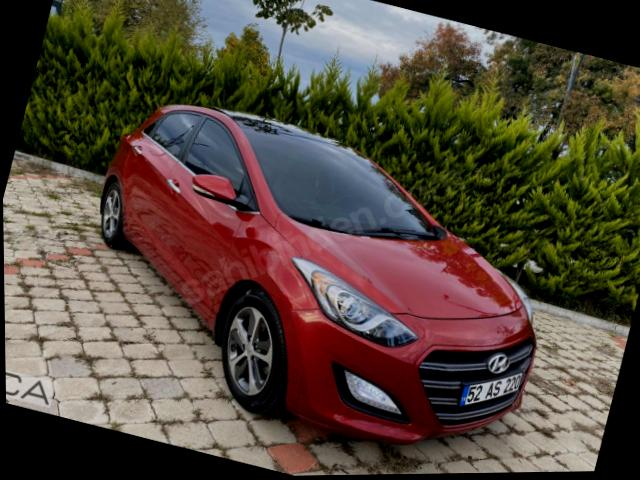plaka: (460, 373, 522, 405)
